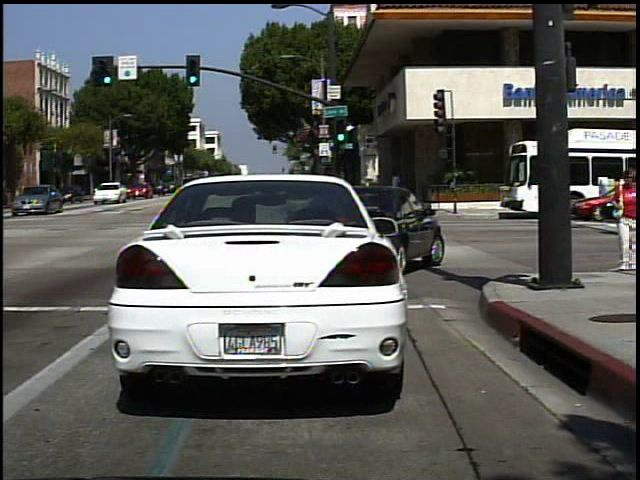person: (606, 165, 638, 274), (388, 169, 406, 208)
